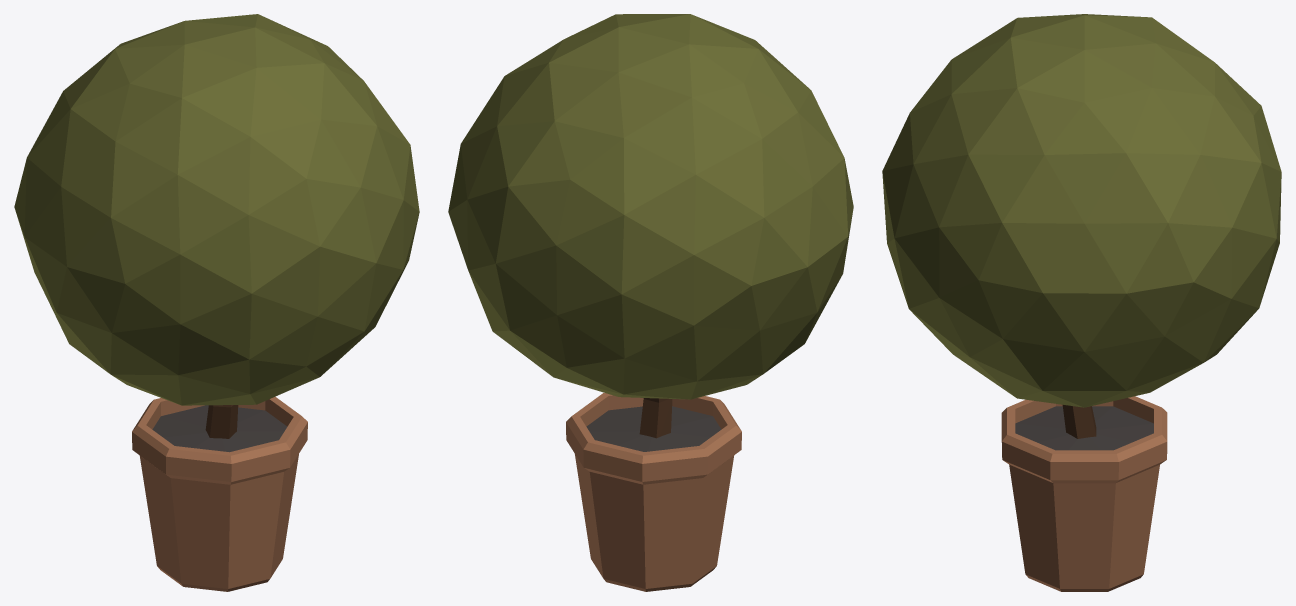
The model's file is castle-garden-topiary-1ab3ea.glb.
3 views of the same model, side by side, from view 1: azimuth 30°, elevation 25°; view 2: azimuth 150°, elevation 25°; view 3: azimuth 270°, elevation 25° (orthographic).
Parts seen in each view (by area): view 1: topiary; view 2: topiary; view 3: topiary.
Boxes of the visible parts, <box> form: topiary: <box>14,14,419,591</box>; topiary: <box>448,14,853,591</box>; topiary: <box>882,14,1281,591</box>.
Size of the model in its own units: 1 by 1.46 by 0.9836.
